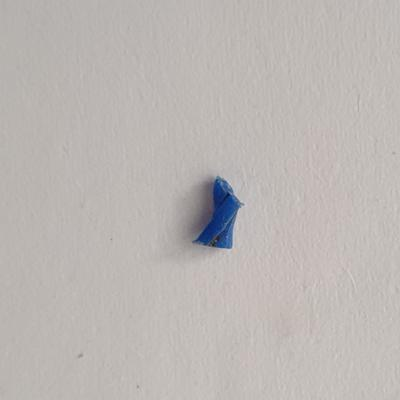plastic: (188, 167, 249, 252)
